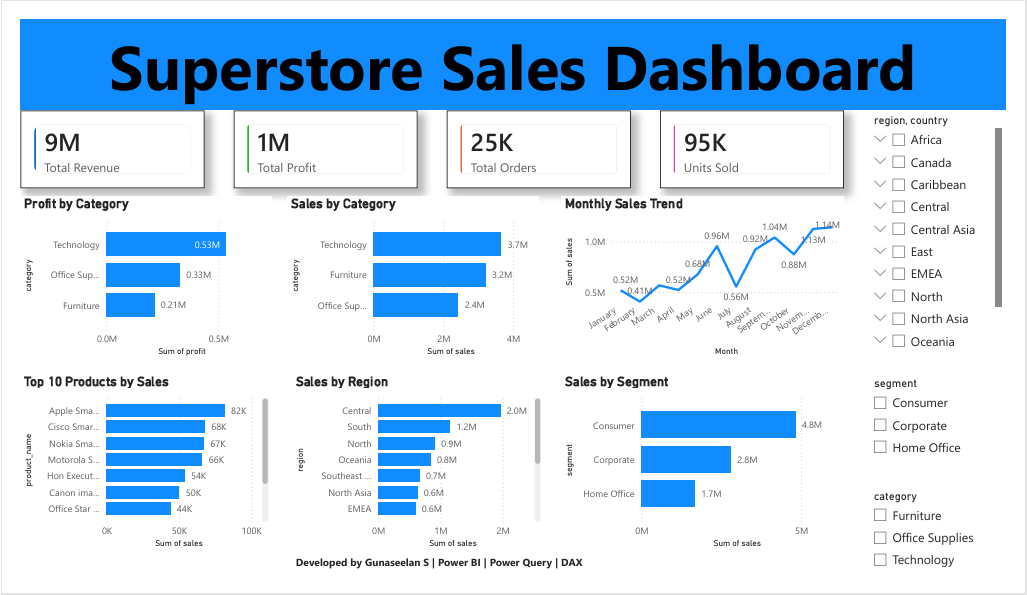

The page's visual inventory and layout, read from the dashboard file:
{"tool":"powerbi","page":{"name":"Page 1","canvas":[1280,720],"ordinal":0},"visuals":[{"type":"cardVisual","fields":{"Data":["SuperStoreOrders.Total Quantity"]},"box":[831,118.1,239,100.8],"z":0},{"type":"cardVisual","fields":{"Data":["SuperStoreOrders.Total Profit"]},"box":[277,118.1,239,100.8],"z":1000},{"type":"cardVisual","fields":{"Data":["SuperStoreOrders.Total Sales"]},"box":[0,118.1,239,100.8],"z":2000},{"type":"cardVisual","fields":{"Data":["SuperStoreOrders.Total Orders"]},"box":[554,118.1,239,100.8],"z":3000},{"type":"barChart","title":"Sales by Category","fields":{"Category":["SuperStoreOrders.category"],"Y":["Sum(SuperStoreOrders.sales)"]},"box":[347,229,326.9,211.7],"z":4000},{"type":"barChart","title":"Profit by Category","fields":{"Y":["Sum(SuperStoreOrders.profit)"],"Category":["SuperStoreOrders.category"]},"box":[0,229,326.9,211.7],"z":5000},{"type":"barChart","title":"Sales by Region","fields":{"Category":["SuperStoreOrders.region"],"Y":["Sum(SuperStoreOrders.sales)"]},"box":[353.5,459.5,327.3,230.4],"z":6000},{"type":"lineChart","title":"Monthly Sales Trend","fields":{"Y":["Sum(SuperStoreOrders.sales)"],"Category":["SuperStoreOrders.order_date.Variation.Date Hierarchy.Month"]},"box":[702.7,229,367.2,211.7],"z":7000},{"type":"textbox","box":[0,0,1280.2,118.1],"z":8000},{"type":"barChart","title":"Top 10 Products by Sales","fields":{"Category":["SuperStoreOrders.product_name"],"Y":["Sum(SuperStoreOrders.sales)"]},"box":[0,459.4,326.9,230.4],"z":9000},{"type":"slicer","fields":{"Values":["SuperStoreOrders.region","SuperStoreOrders.country"]},"box":[1095.7,117.8,184.6,323.3],"z":10000},{"type":"slicer","fields":{"Values":["SuperStoreOrders.category"]},"box":[1095.8,604.8,184.3,115.2],"z":11000},{"type":"slicer","fields":{"Values":["SuperStoreOrders.segment"]},"box":[1095.7,459.5,184.6,145.3],"z":12000},{"type":"barChart","title":"Sales by Segment","fields":{"Category":["SuperStoreOrders.segment"],"Y":["Sum(SuperStoreOrders.sales)"]},"box":[702.7,459.4,367.2,230.4],"z":13000},{"type":"textbox","box":[164.2,689.8,760.3,30.2],"z":14000}]}

Visuals, with their boxes in screenshot pixels (x1, y1, x2, y2), scaled from the page's 1280x720 canvas onto the 1027x595 screenshot:
cardVisual - SuperStoreOrders.Total Quantity: [667,98,859,181]
cardVisual - SuperStoreOrders.Total Profit: [222,98,414,181]
cardVisual - SuperStoreOrders.Total Sales: [0,98,192,181]
cardVisual - SuperStoreOrders.Total Orders: [444,98,636,181]
"Sales by Category" barChart: [278,189,541,364]
"Profit by Category" barChart: [0,189,262,364]
"Sales by Region" barChart: [284,380,546,570]
"Monthly Sales Trend" lineChart: [564,189,858,364]
textbox: [0,0,1026,98]
"Top 10 Products by Sales" barChart: [0,380,262,570]
slicer - SuperStoreOrders.region x SuperStoreOrders.country: [879,97,1026,365]
slicer - SuperStoreOrders.category: [879,500,1026,594]
slicer - SuperStoreOrders.segment: [879,380,1026,500]
"Sales by Segment" barChart: [564,380,858,570]
textbox: [132,570,742,594]
